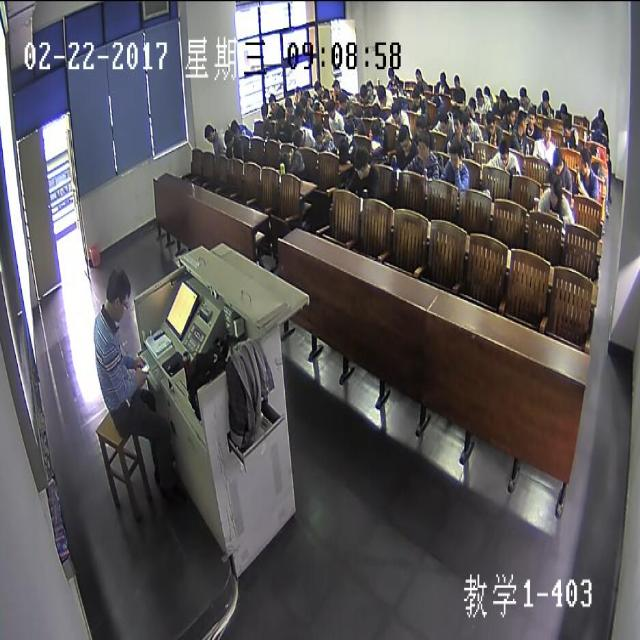person: (105, 270, 128, 320), (354, 149, 369, 176), (397, 125, 409, 151), (448, 143, 460, 169), (549, 180, 560, 206), (416, 136, 428, 158), (579, 149, 588, 176), (415, 114, 425, 136), (484, 110, 494, 132), (499, 142, 508, 165), (552, 150, 561, 172), (282, 96, 292, 115), (223, 129, 233, 147), (280, 150, 290, 168), (452, 114, 461, 134), (203, 124, 214, 140), (543, 122, 551, 144), (370, 118, 379, 137), (313, 124, 323, 141), (462, 113, 470, 134), (475, 85, 483, 106), (336, 136, 346, 152), (292, 130, 304, 143), (292, 85, 300, 104), (516, 113, 524, 132), (518, 86, 526, 105), (229, 120, 238, 136), (370, 100, 379, 116), (391, 103, 400, 119), (506, 104, 514, 122), (562, 119, 570, 137), (466, 97, 473, 117), (358, 84, 366, 101), (438, 113, 446, 130), (527, 107, 534, 126), (275, 107, 283, 123), (294, 106, 302, 122), (326, 100, 334, 116), (375, 85, 383, 101), (386, 66, 394, 82), (558, 102, 566, 118), (594, 128, 602, 144), (364, 80, 373, 94), (412, 89, 419, 107), (540, 90, 547, 108), (260, 103, 267, 119), (298, 96, 306, 110), (338, 92, 346, 106), (589, 141, 596, 157), (432, 91, 439, 106), (267, 95, 275, 108), (302, 89, 310, 102), (344, 121, 353, 132), (452, 74, 459, 88), (597, 108, 603, 123), (354, 104, 362, 115), (314, 80, 321, 92), (332, 81, 338, 95), (482, 84, 489, 96), (498, 94, 505, 105), (438, 73, 444, 84), (415, 67, 420, 80), (312, 98, 318, 108)
